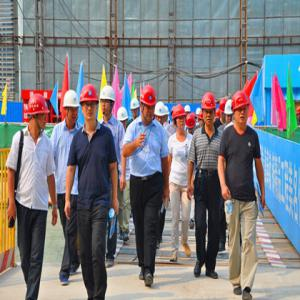red: (28, 96, 51, 132), (82, 85, 99, 123), (140, 85, 157, 123), (232, 91, 250, 126), (202, 94, 216, 130), (174, 106, 187, 132), (186, 115, 197, 136), (219, 98, 227, 122), (199, 111, 204, 128)
white: (63, 91, 81, 126), (101, 87, 115, 116), (223, 99, 235, 125), (155, 101, 167, 125), (118, 108, 130, 130), (131, 99, 140, 118)
